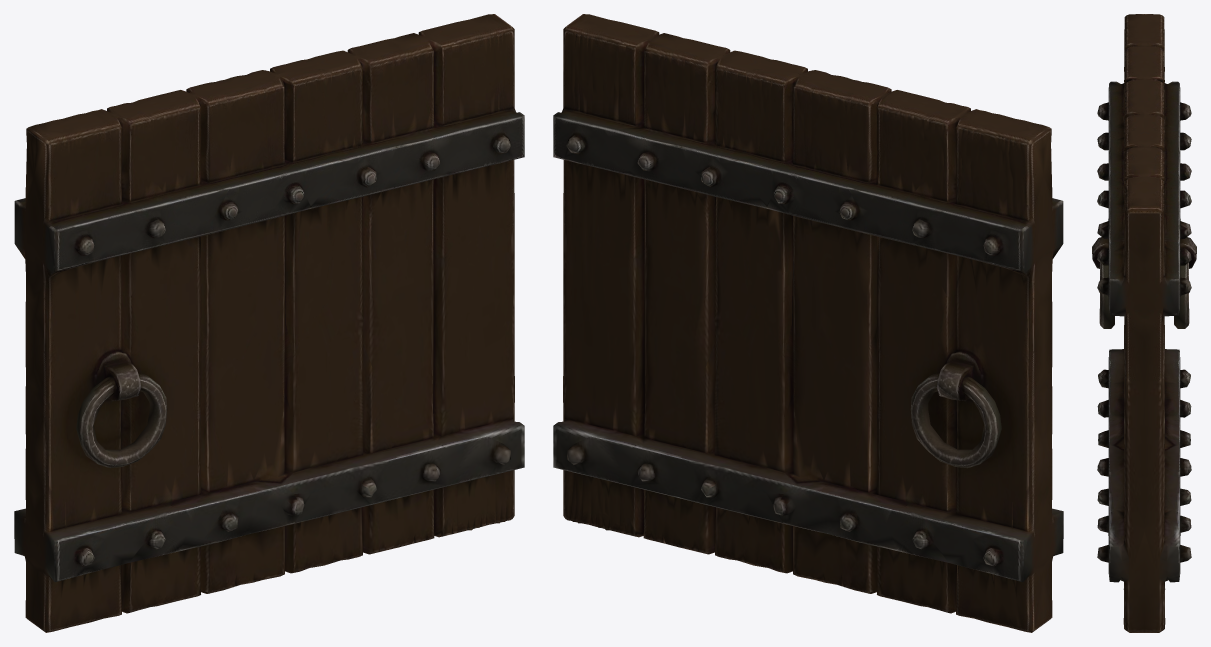
The model's file is Door_Wood_Square.fbx.
The picture shows the model from 3 angles, left to right: view 1: azimuth 30°, elevation 25°; view 2: azimuth 150°, elevation 25°; view 3: azimuth 270°, elevation 25°; orthographic projection. The views are drawn at different scales.
Visible parts, largest first — view 1: wooden_door_square; view 2: wooden_door_square; view 3: wooden_door_square.
Boxes of the visible parts, left/top/right/bottom form: wooden_door_square: left=14, top=14, right=524, bottom=632; wooden_door_square: left=553, top=14, right=1063, bottom=632; wooden_door_square: left=1092, top=14, right=1196, bottom=632.
Size of the model in its own units: 231 by 231 by 51.53.
1 material, 1 textured.
